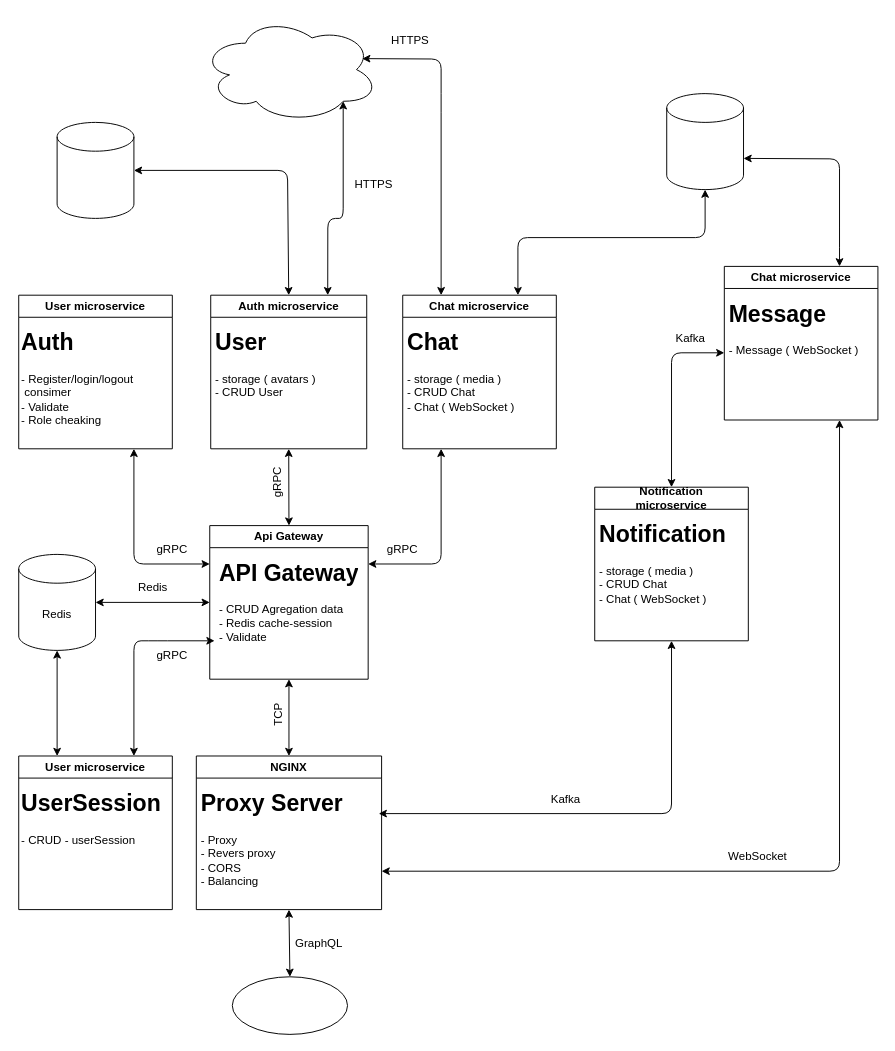
Image size: 895x1051. Some labels were removed from this diagram. The shapes that lost their labels are listed below. From the top down, each one's centre as x and y in pixels, then its label:
the point at 289,69: Yandex cloud storage
the point at 705,141: MongoDB
the point at 95,169: Postgresql
the point at 289,1005: Frontend
